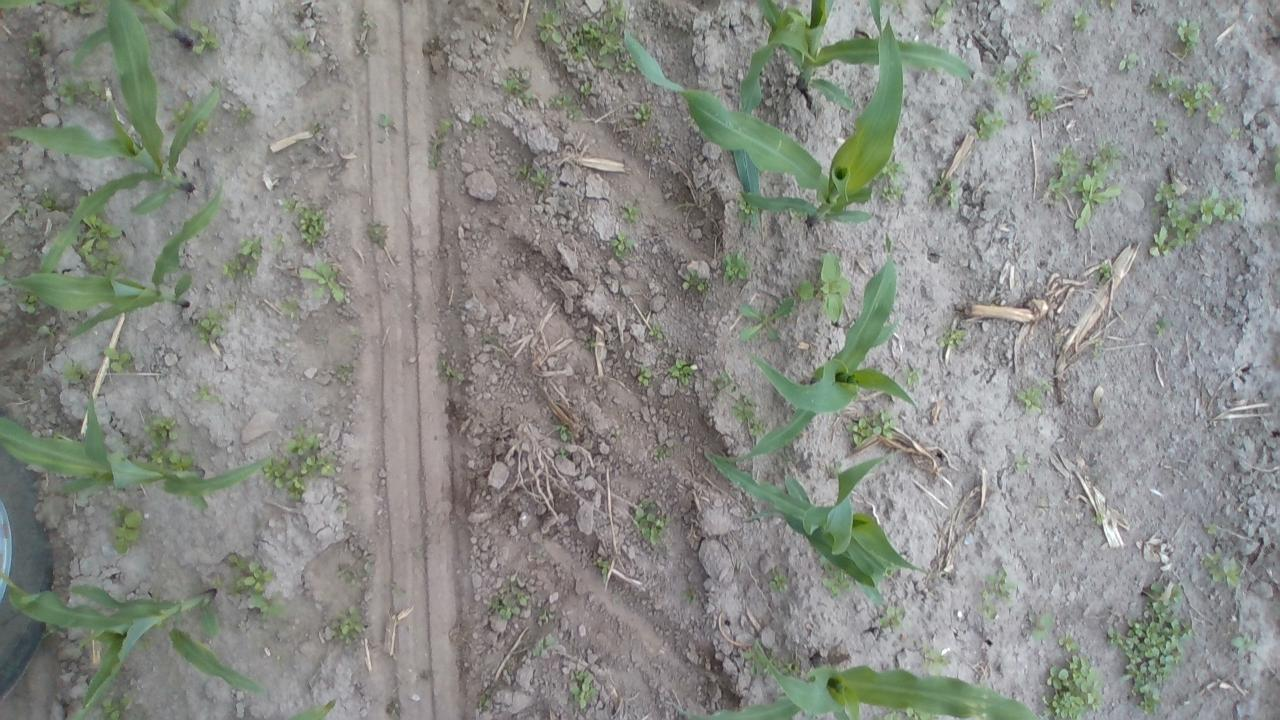Maize: (8, 0, 222, 275), (624, 15, 902, 222), (700, 240, 920, 458), (734, 0, 974, 192), (0, 569, 265, 720), (704, 447, 932, 607), (0, 187, 220, 339), (675, 637, 1040, 720), (0, 386, 274, 496), (78, 0, 205, 61), (282, 697, 338, 720), (0, 0, 41, 7), (45, 0, 79, 6)
Weeds: (1104, 576, 1194, 720), (1044, 142, 1130, 231), (1154, 180, 1244, 254), (1042, 630, 1100, 720), (266, 427, 334, 498), (798, 246, 855, 329), (568, 0, 626, 63), (230, 564, 285, 620), (736, 293, 792, 344), (989, 46, 1049, 90), (977, 560, 1017, 623), (297, 258, 347, 305), (631, 490, 673, 545), (108, 498, 146, 557), (286, 196, 327, 250), (1198, 548, 1246, 594), (220, 233, 262, 283), (850, 406, 894, 448), (731, 395, 770, 438), (76, 217, 124, 251), (488, 587, 530, 623), (966, 106, 1006, 142), (929, 170, 966, 208), (880, 161, 910, 206), (197, 304, 233, 341), (923, 0, 959, 36), (568, 672, 603, 708), (821, 564, 853, 602), (510, 162, 551, 190), (536, 11, 567, 48), (1142, 66, 1186, 92), (1024, 612, 1054, 650), (1014, 383, 1052, 413), (1181, 80, 1212, 116), (1173, 16, 1203, 52), (720, 245, 746, 285), (666, 355, 696, 389), (146, 446, 192, 468), (56, 80, 98, 104), (101, 692, 137, 720), (919, 650, 954, 678), (878, 606, 908, 638), (147, 414, 180, 442), (528, 632, 560, 660), (1230, 632, 1262, 660), (192, 20, 218, 52), (102, 348, 134, 374), (938, 322, 972, 346), (680, 266, 709, 294), (766, 656, 802, 678), (338, 605, 366, 633), (1025, 92, 1056, 117), (506, 69, 532, 98), (88, 253, 123, 274), (872, 709, 934, 720), (1148, 110, 1174, 136), (1002, 447, 1032, 469), (632, 100, 657, 125), (24, 32, 50, 56), (620, 196, 642, 224), (1150, 308, 1172, 336), (370, 220, 390, 250), (608, 236, 634, 258), (904, 365, 926, 391), (278, 295, 304, 316), (712, 371, 732, 398), (429, 119, 452, 142), (1069, 10, 1091, 34), (1117, 52, 1139, 75), (591, 552, 612, 576), (61, 363, 85, 384), (441, 359, 461, 383), (282, 31, 307, 50), (551, 88, 570, 112), (567, 100, 588, 121), (769, 570, 789, 592), (337, 359, 358, 379), (1208, 102, 1227, 124), (646, 321, 666, 341), (224, 554, 250, 568), (428, 142, 442, 167), (205, 574, 230, 588), (16, 200, 34, 219), (479, 686, 492, 711), (471, 109, 488, 128), (636, 369, 654, 386), (41, 192, 58, 210), (192, 381, 211, 397), (1096, 0, 1120, 12), (0, 242, 11, 267), (739, 199, 756, 215), (556, 426, 570, 444), (334, 566, 353, 579), (19, 289, 35, 304), (578, 83, 592, 100), (1035, 0, 1056, 11), (1098, 260, 1112, 276), (238, 105, 254, 119), (1202, 520, 1219, 533), (1228, 124, 1242, 139), (376, 115, 392, 128), (194, 122, 208, 136), (1273, 156, 1280, 182), (362, 10, 373, 26), (626, 58, 636, 74), (1092, 513, 1104, 524), (1093, 338, 1104, 349)
